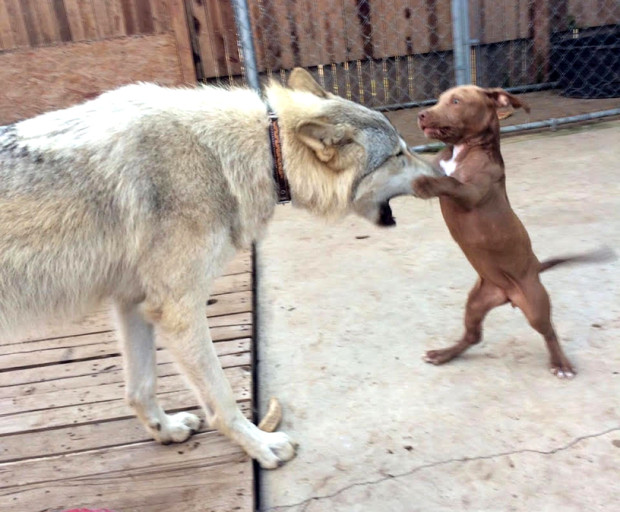dog: (417, 81, 581, 380)
wolf: (1, 68, 445, 472)
